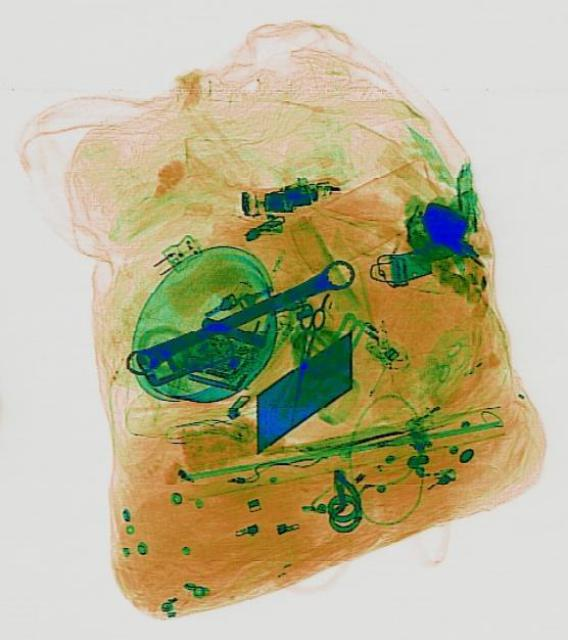Wrench: (118, 253, 356, 379)
